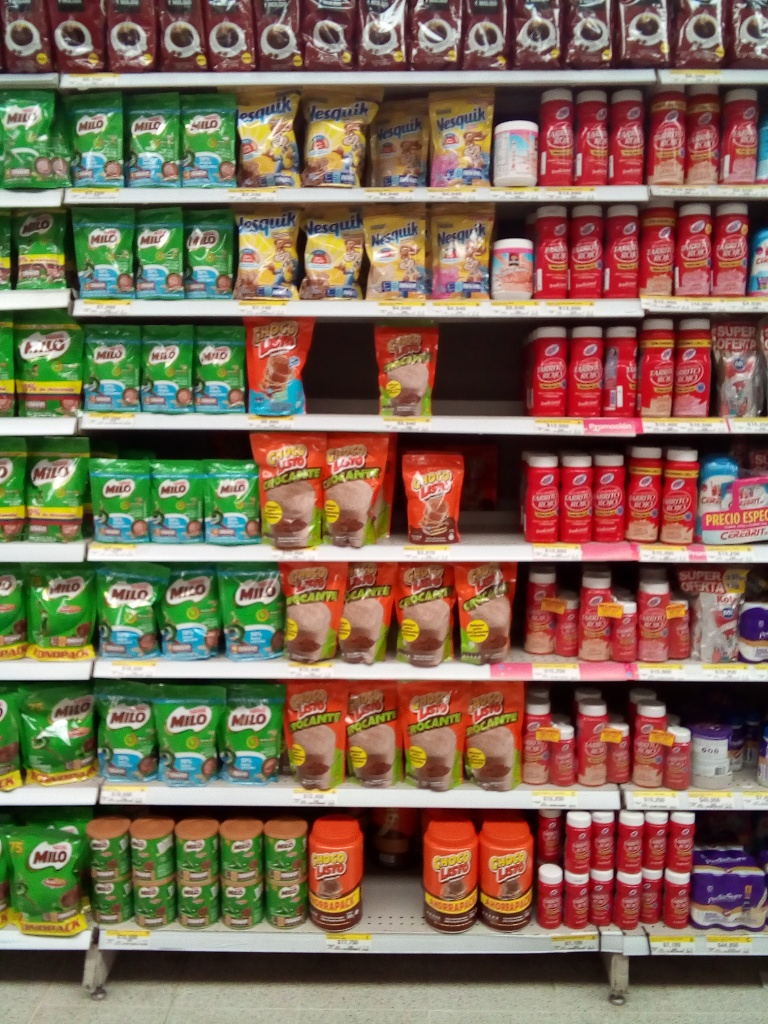COL0170102DYP10000: (376, 330, 436, 418)
COL0170102DYP25000: (289, 682, 349, 786)
COL0170102DYP50000: (239, 432, 321, 547)
COL0170103DYP20000: (397, 445, 477, 540)
COL0170103TRR00100: (295, 816, 371, 934)
COL0170104DYP20000: (251, 322, 322, 418)
COL0170203DYP25000: (23, 328, 88, 424)
COL0170203DYP50000: (0, 442, 22, 543)
COL0170203LAT40000: (89, 871, 136, 924)
COL0170205DYP20000: (204, 464, 273, 546)
COL0170205DYP50000: (90, 567, 163, 653)
COL0170303DYP20000: (236, 81, 302, 189)
COL0170305DYP20000: (428, 84, 493, 186)
COL0170306DYP20000: (364, 207, 428, 300)
